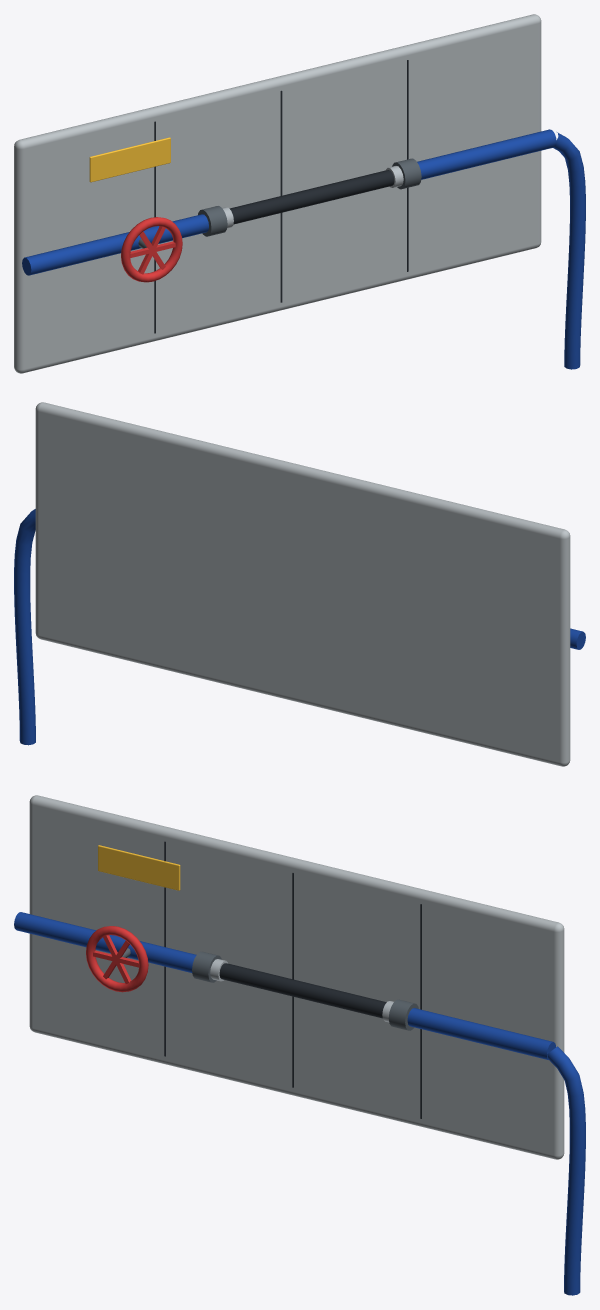
The model's file is irrigation-line.glb.
3 renders of one model, top to bottom at view 1: azimuth 30°, elevation 25°; view 2: azimuth 150°, elevation 25°; view 3: azimuth 330°, elevation 25°, orthographic.
Visible parts, largest first — view 1: irrigation-line-panel-grey, irrigation-line-nasa-blue, hose_segment-dark-polymer, isolation_valve-signal-red, irrigation-line-hazard-yellow, irrigation-line-dark-polymer, irrigation-line-dark-steel; view 2: irrigation-line-panel-grey, irrigation-line-nasa-blue; view 3: irrigation-line-panel-grey, irrigation-line-nasa-blue, hose_segment-dark-polymer, isolation_valve-signal-red, irrigation-line-hazard-yellow, irrigation-line-dark-polymer, irrigation-line-dark-steel.
Boxes of the visible parts, box(x1,y1,x2,y2) form: irrigation-line-panel-grey: box(14, 14, 541, 373); irrigation-line-nasa-blue: box(22, 129, 585, 369); hose_segment-dark-polymer: box(230, 170, 394, 224); isolation_valve-signal-red: box(121, 217, 182, 282); irrigation-line-hazard-yellow: box(89, 137, 170, 182); irrigation-line-dark-polymer: box(154, 60, 408, 333); irrigation-line-dark-steel: box(198, 158, 421, 236); irrigation-line-panel-grey: box(35, 402, 570, 766); irrigation-line-nasa-blue: box(14, 509, 585, 745); irrigation-line-panel-grey: box(29, 795, 564, 1159); irrigation-line-nasa-blue: box(14, 912, 585, 1295); hose_segment-dark-polymer: box(219, 963, 386, 1018); isolation_valve-signal-red: box(86, 926, 148, 992); irrigation-line-hazard-yellow: box(98, 845, 180, 890); irrigation-line-dark-polymer: box(164, 841, 421, 1118); irrigation-line-dark-steel: box(192, 951, 418, 1030).
Size of the model in its own units: 2.76 by 1.65 by 0.269.
